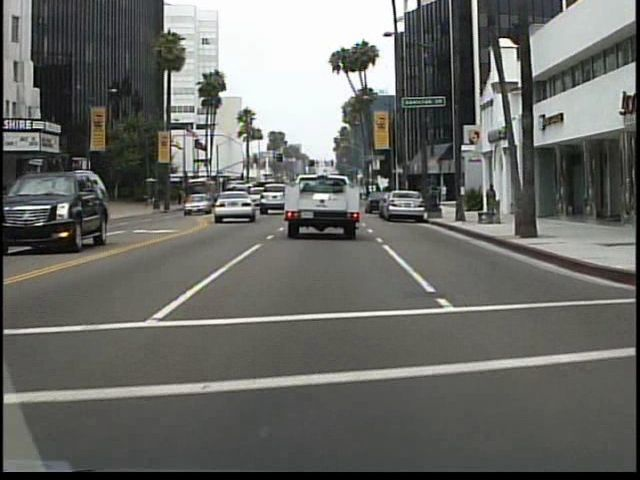person: (482, 181, 500, 219), (143, 190, 153, 213)
